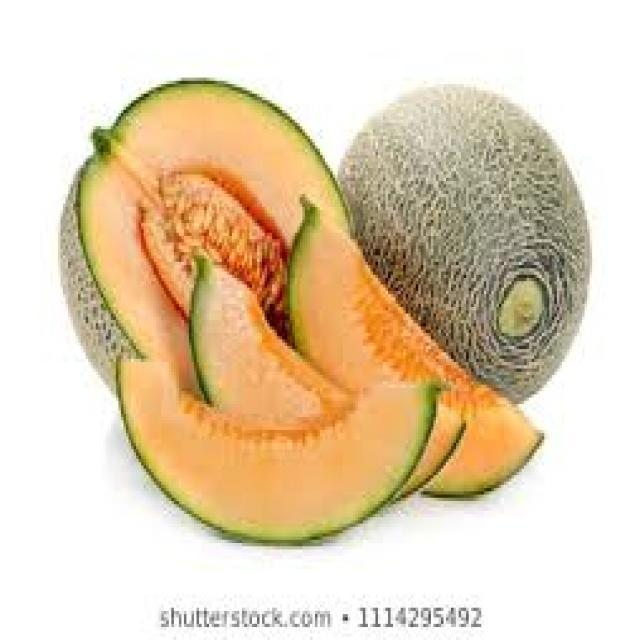Hami Melon: (59, 77, 354, 426), (340, 87, 589, 406)
